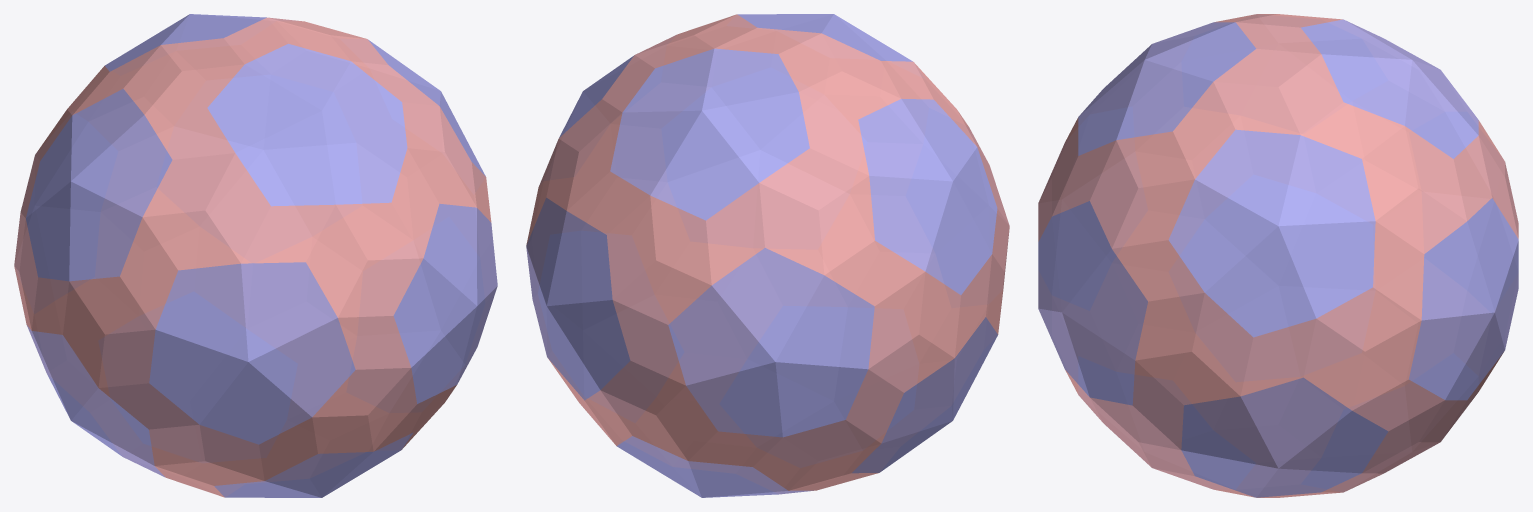
The model's file is JoinedSnubDodecahedron.obj.
3 renders of one model, left to right at view 1: azimuth 30°, elevation 25°; view 2: azimuth 150°, elevation 25°; view 3: azimuth 270°, elevation 25°, orthographic.
Bounding box in the file's own units: 4.19 × 4.19 × 4.19.
